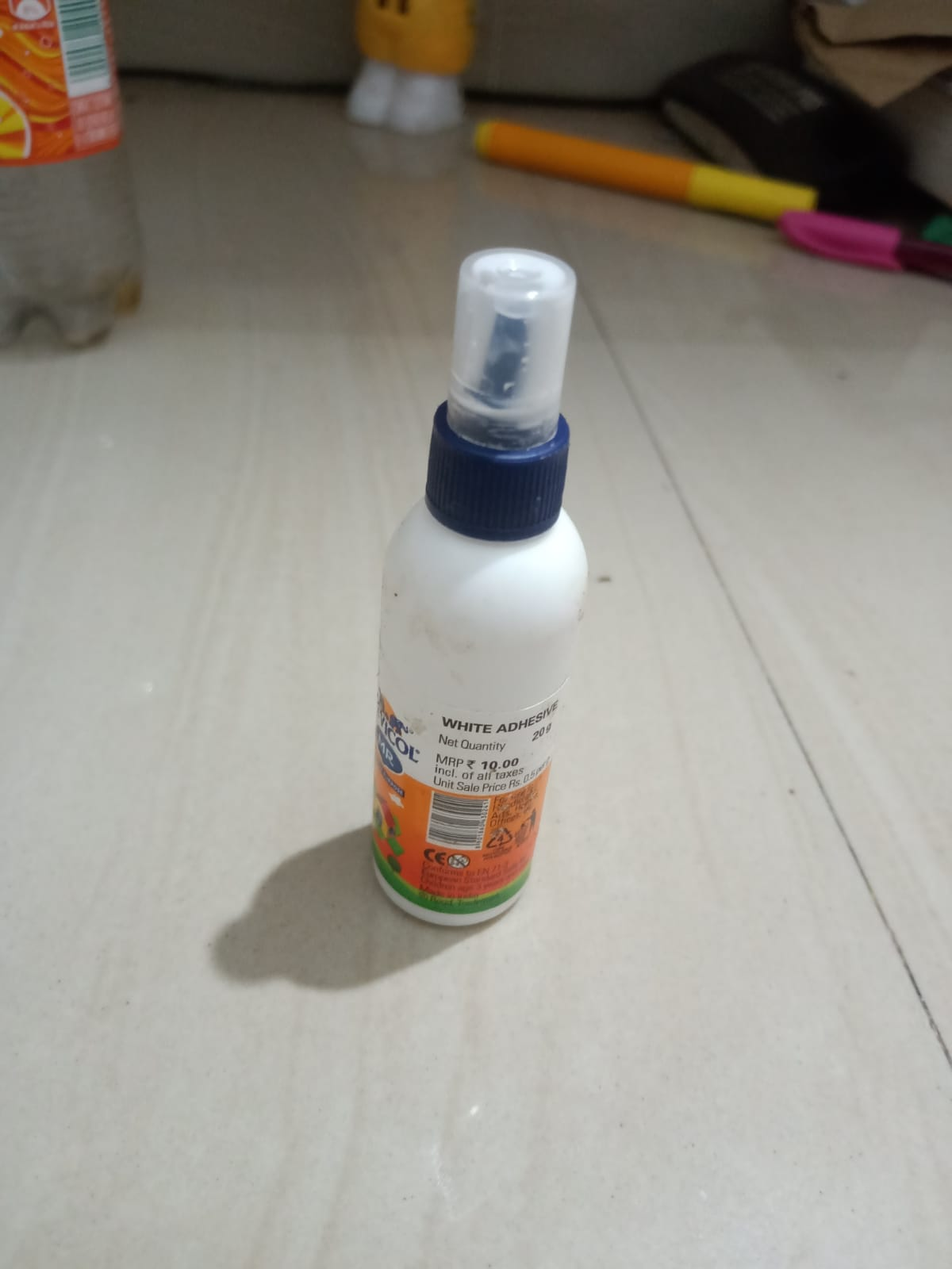plastic: (336, 220, 611, 1020)
